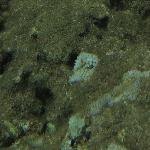dead: (1, 1, 145, 147)
